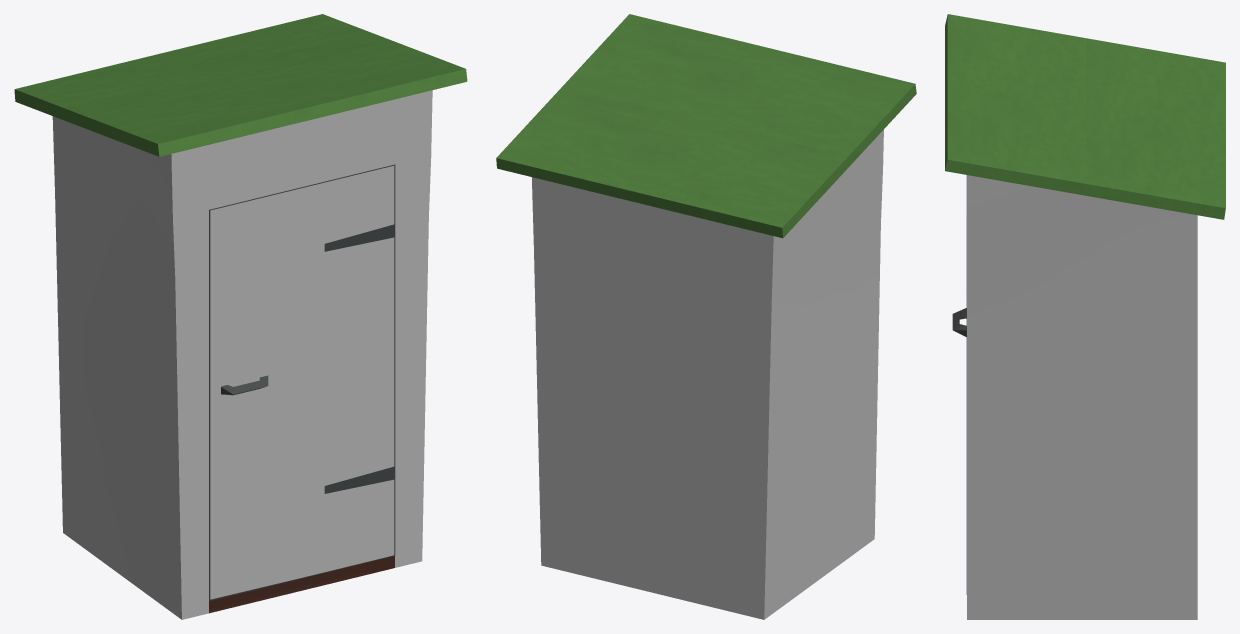
The model's file is OutdoorBathroom_Art.fbx.
The picture shows the model from 3 angles, left to right: view 1: azimuth 30°, elevation 25°; view 2: azimuth 150°, elevation 25°; view 3: azimuth 270°, elevation 25°; orthographic projection. The views are drawn at different scales.
Visible parts, largest first — view 1: Oktoberfest_OutdoorBathroom, Oktoberfest_OutdoorBathroom_Door, Oktoberfest_OutdoorBathroom_Hinge, Oktoberfest_OutdoorBathroom_Hinge1; view 2: Oktoberfest_OutdoorBathroom; view 3: Oktoberfest_OutdoorBathroom, Oktoberfest_OutdoorBathroom_Door.
Part boxes in pixels (x1,y1,x2,y2): Oktoberfest_OutdoorBathroom: [14, 14, 467, 619]; Oktoberfest_OutdoorBathroom_Door: [209, 164, 395, 600]; Oktoberfest_OutdoorBathroom_Hinge: [324, 224, 394, 251]; Oktoberfest_OutdoorBathroom_Hinge1: [324, 466, 394, 493]; Oktoberfest_OutdoorBathroom: [496, 14, 916, 619]; Oktoberfest_OutdoorBathroom: [945, 14, 1225, 619]; Oktoberfest_OutdoorBathroom_Door: [966, 175, 966, 594].
Size of the model in its own units: 176 by 268 by 143.
